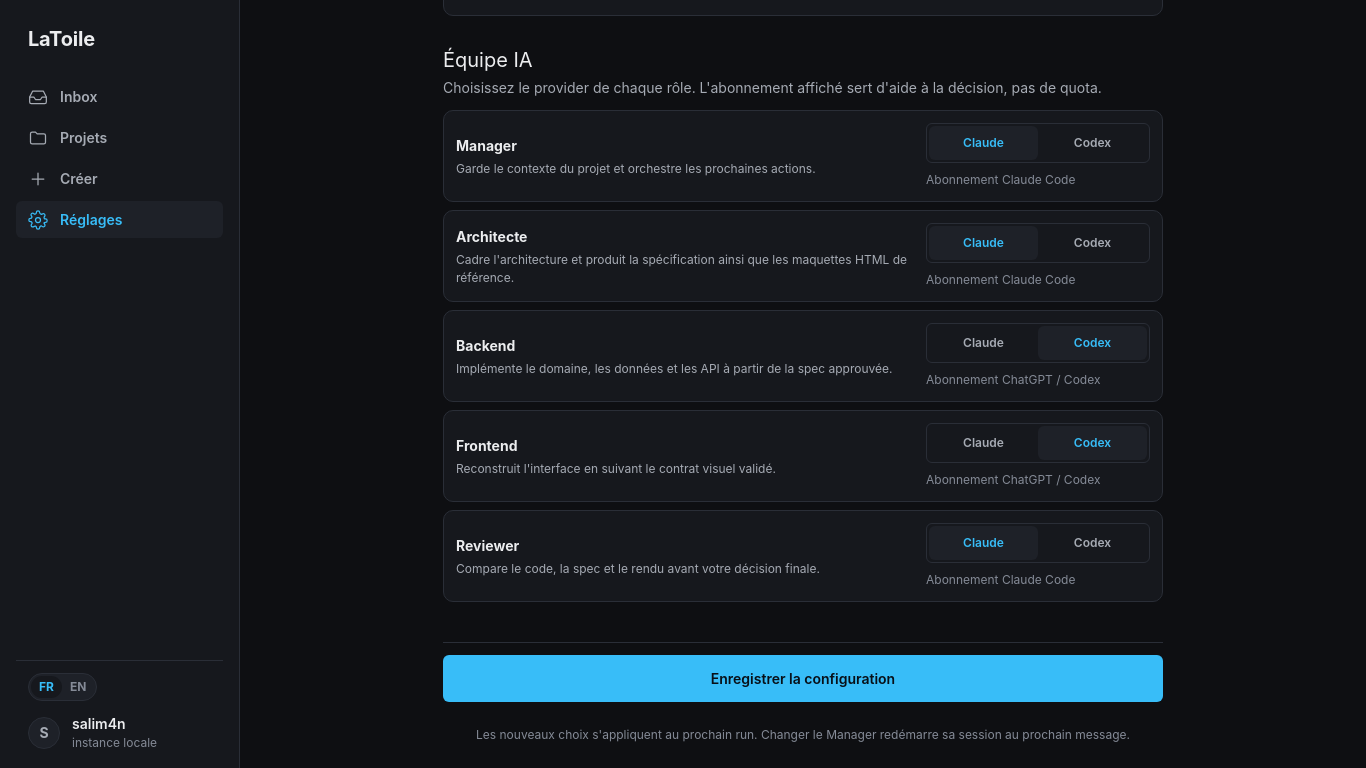
Scenario: SettingsScreen visual contract › keeps a failed save recoverable in place
(page scrolled)
Click the button "Enregistrer la configuration" at (803, 678), box [443, 655, 1163, 702]
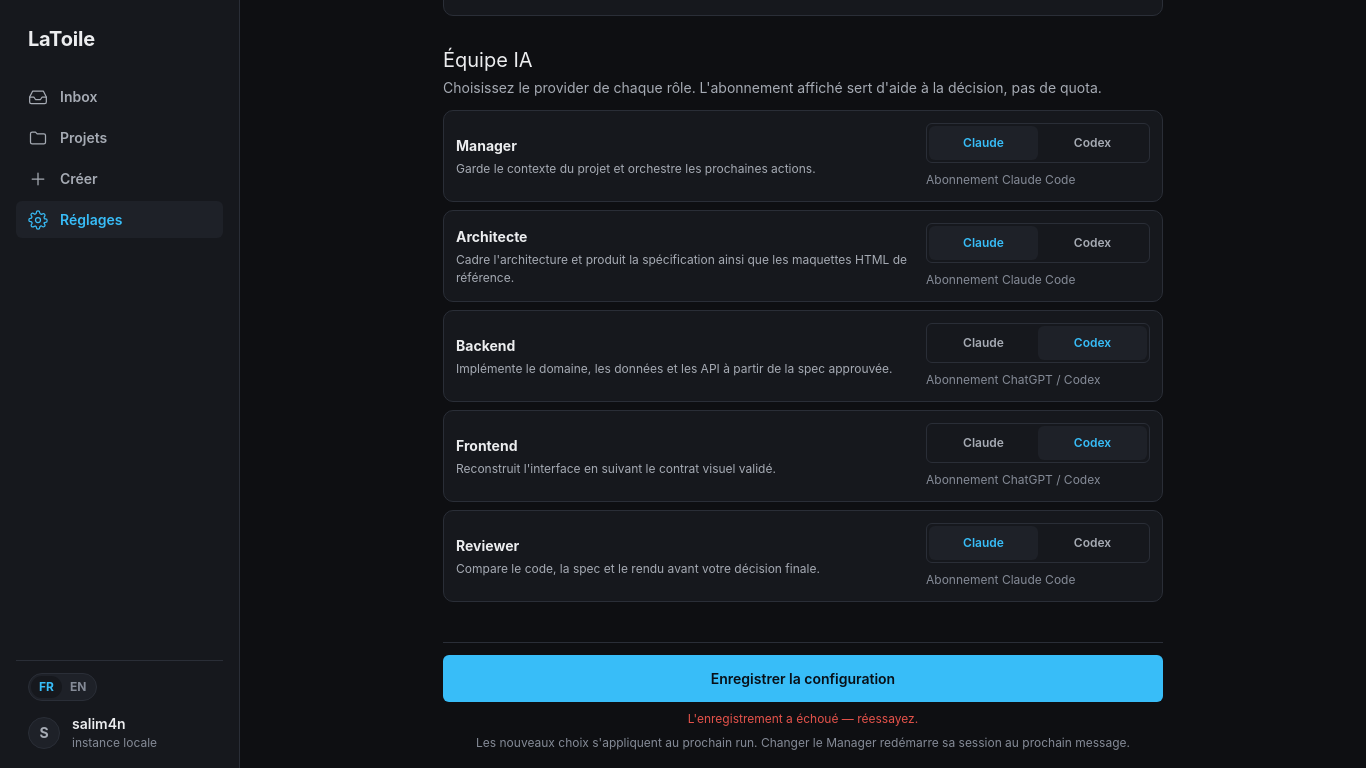
Expected: the message shows "L'enregistrement a échoué", [688, 711, 918, 726]
